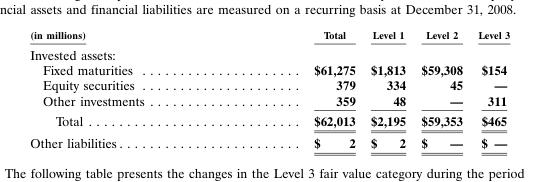table: (29, 28, 509, 150)
table column: (29, 28, 228, 150), (228, 28, 362, 150), (412, 28, 469, 150), (362, 28, 412, 150), (469, 28, 509, 150)
table column header: (29, 28, 509, 43)
table projected row header: (29, 43, 509, 61)
table row: (29, 110, 509, 131), (29, 131, 509, 150), (29, 43, 509, 61), (29, 92, 509, 110), (29, 61, 509, 77), (29, 28, 509, 43), (29, 77, 509, 92)
